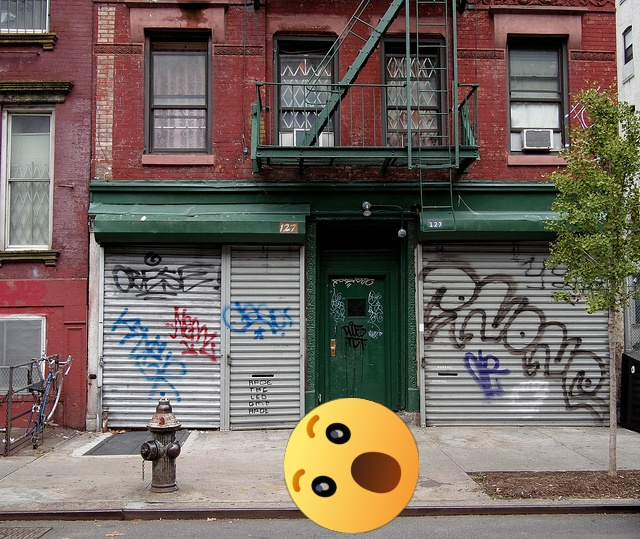wow: (284, 398, 419, 533)
